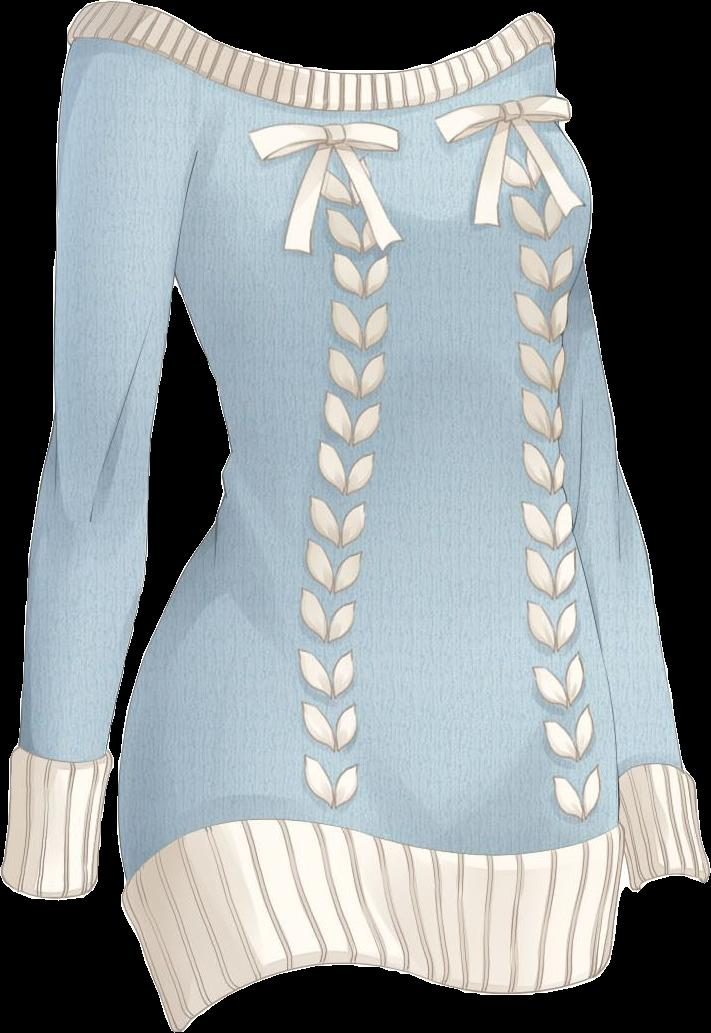Bodice: (173, 28, 593, 480)
Hemline: (170, 951, 615, 1032)
Neckline: (213, 57, 521, 116), (222, 26, 507, 80)
Skirt: (116, 481, 627, 1031)
Sleeve: (0, 0, 224, 899)
Sleeveline: (91, 0, 231, 56), (15, 741, 114, 770)
Waistline: (117, 814, 628, 902)
